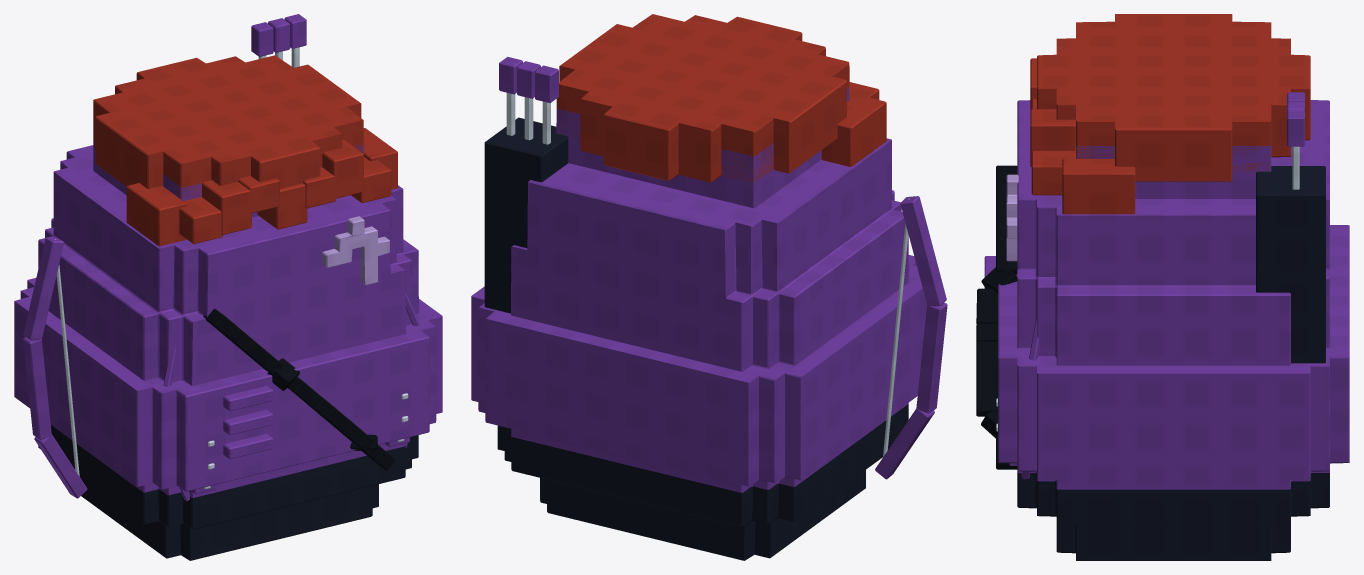
The model's file is Hawkeye_Egg.fbx.
3 renders of one model, left to right at view 1: azimuth 30°, elevation 25°; view 2: azimuth 150°, elevation 25°; view 3: azimuth 270°, elevation 25°, orthographic. The views are drawn at different scales.
Parts seen in each view (by area): view 1: Hawkeye_Egg; view 2: Hawkeye_Egg; view 3: Hawkeye_Egg.
Boxes of the visible parts, x1,y1,x2,y2 form: Hawkeye_Egg: (14,14,442,560); Hawkeye_Egg: (471,14,947,560); Hawkeye_Egg: (976,14,1349,560).
Size of the model in its own units: 297 by 320 by 237.
6 materials, 6 textured.
